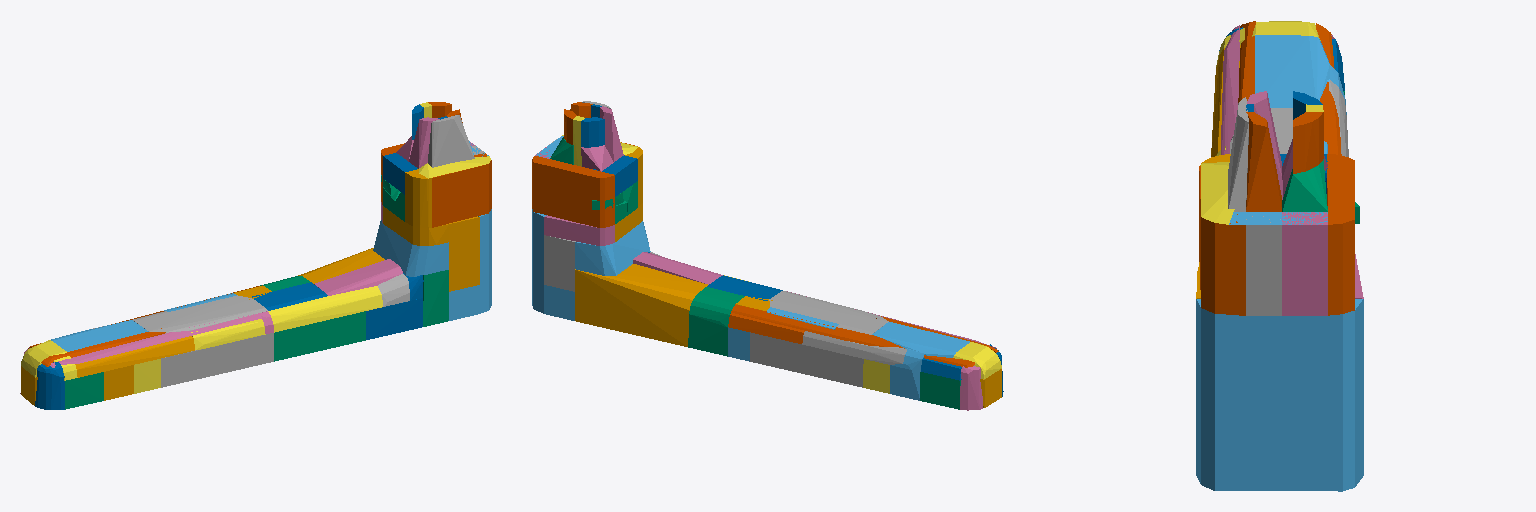
--- Render facts (derived) ---
The picture shows the robot from 3 angles, left to right: view 1: azimuth 30°, elevation 25°; view 2: azimuth 150°, elevation 25°; view 3: azimuth 270°, elevation 25°; orthographic projection.
Model root with 64 links and 63 joints (63 fixed), rooted at link_handle~handle2_convex_piece_0, posed every joint at zero.
Visible links, largest first — view 1: link_handle~handle2_convex_piece_63, link_handle~handle2_convex_piece_21, link_handle~handle2_convex_piece_58, link_handle~handle2_convex_piece_35, link_handle~handle2_convex_piece_47, link_handle~handle2_convex_piece_49, link_handle~handle2_convex_piece_8, link_handle~handle2_convex_piece_55, link_handle~handle2_convex_piece_48, link_handle~handle2_convex_piece_44, link_handle~handle2_convex_piece_46, link_handle~handle2_convex_piece_38 (+19 smaller); view 2: link_handle~handle2_convex_piece_56, link_handle~handle2_convex_piece_45, link_handle~handle2_convex_piece_63, link_handle~handle2_convex_piece_34, link_handle~handle2_convex_piece_49, link_handle~handle2_convex_piece_47, link_handle~handle2_convex_piece_61, link_handle~handle2_convex_piece_41, link_handle~handle2_convex_piece_7, link_handle~handle2_convex_piece_22, link_handle~handle2_convex_piece_57, link_handle~handle2_convex_piece_25 (+17 smaller); view 3: link_handle~handle2_convex_piece_25, link_handle~handle2_convex_piece_6, link_handle~handle2_convex_piece_41, link_handle~handle2_convex_piece_45, link_handle~handle2_convex_piece_21, link_handle~handle2_convex_piece_15, link_handle~handle2_convex_piece_53, link_handle~handle2_convex_piece_55, link_handle~handle2_convex_piece_26, link_handle~handle2_convex_piece_29, link_handle~handle2_convex_piece_38, link_handle~handle2_convex_piece_43 (+7 smaller).
Boxes of the visible links, x1,y1,x2,y2 form: link_handle~handle2_convex_piece_63: (161,333,273,387); link_handle~handle2_convex_piece_21: (432,153,491,227); link_handle~handle2_convex_piece_58: (274,311,365,361); link_handle~handle2_convex_piece_35: (268,286,382,332); link_handle~handle2_convex_piece_47: (134,295,267,333); link_handle~handle2_convex_piece_49: (373,220,448,276); link_handle~handle2_convex_piece_8: (449,216,479,291); link_handle~handle2_convex_piece_55: (428,115,474,167); link_handle~handle2_convex_piece_48: (75,336,194,377); link_handle~handle2_convex_piece_44: (366,298,422,339); link_handle~handle2_convex_piece_46: (314,259,402,295); link_handle~handle2_convex_piece_38: (50,313,261,367); link_handle~handle2_convex_piece_56: (575,264,707,346); link_handle~handle2_convex_piece_45: (532,156,614,227); link_handle~handle2_convex_piece_63: (750,332,863,387); link_handle~handle2_convex_piece_34: (688,287,744,356); link_handle~handle2_convex_piece_49: (575,221,650,275); link_handle~handle2_convex_piece_47: (769,291,888,332); link_handle~handle2_convex_piece_61: (731,304,974,367); link_handle~handle2_convex_piece_41: (872,322,969,357); link_handle~handle2_convex_piece_7: (544,235,575,291); link_handle~handle2_convex_piece_22: (544,215,614,245); link_handle~handle2_convex_piece_57: (890,348,924,400); link_handle~handle2_convex_piece_25: (532,209,546,313); link_handle~handle2_convex_piece_25: (1196,299,1363,491); link_handle~handle2_convex_piece_6: (1282,212,1327,315); link_handle~handle2_convex_piece_41: (1255,35,1329,107); link_handle~handle2_convex_piece_45: (1327,154,1354,315); link_handle~handle2_convex_piece_21: (1199,166,1245,315); link_handle~handle2_convex_piece_15: (1246,216,1281,315); link_handle~handle2_convex_piece_53: (1246,112,1281,211); link_handle~handle2_convex_piece_55: (1228,97,1248,211); link_handle~handle2_convex_piece_26: (1282,159,1327,211); link_handle~handle2_convex_piece_29: (1293,112,1323,173); link_handle~handle2_convex_piece_38: (1221,25,1239,154); link_handle~handle2_convex_piece_43: (1201,162,1234,224).
Bounding box of the posed robot: 0.1277 × 0.0227 × 0.052 m (x, y, z).
Meshes: 64 distinct files referenced, 64 mesh visuals loaded (64 OBJ).

URDF robot description (root):
<robot name="root">
  <link name="link_handle~handle2_convex_piece_0">
    <inertial>
      <origin xyz="0 0 0" rpy="0 0 0"/>
      <mass value="9.66E-04"/>
      <inertia ixx="1.10E-07" ixy="-2.01E-07" ixz="-5.53E-07" iyy="3.87E-06" iyz="-3.13E-08" izz="3.80E-06"/>
    </inertial>
    <visual>
      <origin xyz="0 0 0" rpy="0 0 0"/>
      <geometry>
        <mesh filename="handle~handle2_convex_piece_0.obj" scale="1.0000E+00 1.0000E+00 1.0000E+00"/>
      </geometry>
      <material name=""/>
    </visual>
    <collision>
      <origin xyz="0 0 0" rpy="0 0 0"/>
      <geometry>
        <mesh filename="handle~handle2_convex_piece_0.obj" scale="1.0000E+00 1.0000E+00 1.0000E+00"/>
      </geometry>
    </collision>
  </link>
  <link name="link_handle~handle2_convex_piece_1">
    <inertial>
      <origin xyz="0 0 0" rpy="0 0 0"/>
      <mass value="5.49E-04"/>
      <inertia ixx="7.18E-08" ixy="4.76E-08" ixz="-7.96E-08" iyy="1.89E-07" iyz="2.88E-08" izz="1.57E-07"/>
    </inertial>
    <visual>
      <origin xyz="0 0 0" rpy="0 0 0"/>
      <geometry>
        <mesh filename="handle~handle2_convex_piece_1.obj" scale="1.0000E+00 1.0000E+00 1.0000E+00"/>
      </geometry>
      <material name=""/>
    </visual>
    <collision>
      <origin xyz="0 0 0" rpy="0 0 0"/>
      <geometry>
        <mesh filename="handle~handle2_convex_piece_1.obj" scale="1.0000E+00 1.0000E+00 1.0000E+00"/>
      </geometry>
    </collision>
  </link>
  <joint name="link_handle~handle2_convex_piece_1_joint" type="fixed">
    <origin xyz="0 0 0" rpy="0 0 0"/>
    <parent link="link_handle~handle2_convex_piece_0"/>
    <child link="link_handle~handle2_convex_piece_1"/>
  </joint>
  <link name="link_handle~handle2_convex_piece_2">
    <inertial>
      <origin xyz="0 0 0" rpy="0 0 0"/>
      <mass value="1.30E-03"/>
      <inertia ixx="1.38E-07" ixy="1.82E-07" ixz="2.47E-07" iyy="1.01E-06" iyz="-4.94E-08" izz="9.71E-07"/>
    </inertial>
    <visual>
      <origin xyz="0 0 0" rpy="0 0 0"/>
      <geometry>
        <mesh filename="handle~handle2_convex_piece_2.obj" scale="1.0000E+00 1.0000E+00 1.0000E+00"/>
      </geometry>
      <material name=""/>
    </visual>
    <collision>
      <origin xyz="0 0 0" rpy="0 0 0"/>
      <geometry>
        <mesh filename="handle~handle2_convex_piece_2.obj" scale="1.0000E+00 1.0000E+00 1.0000E+00"/>
      </geometry>
    </collision>
  </link>
  <joint name="link_handle~handle2_convex_piece_2_joint" type="fixed">
    <origin xyz="0 0 0" rpy="0 0 0"/>
    <parent link="link_handle~handle2_convex_piece_1"/>
    <child link="link_handle~handle2_convex_piece_2"/>
  </joint>
  <link name="link_handle~handle2_convex_piece_3">
    <inertial>
      <origin xyz="0 0 0" rpy="0 0 0"/>
      <mass value="1.32E-03"/>
      <inertia ixx="1.67E-07" ixy="3.39E-09" ixz="-6.91E-07" iyy="4.07E-06" iyz="2.71E-10" izz="3.97E-06"/>
    </inertial>
    <visual>
      <origin xyz="0 0 0" rpy="0 0 0"/>
      <geometry>
        <mesh filename="handle~handle2_convex_piece_3.obj" scale="1.0000E+00 1.0000E+00 1.0000E+00"/>
      </geometry>
      <material name=""/>
    </visual>
    <collision>
      <origin xyz="0 0 0" rpy="0 0 0"/>
      <geometry>
        <mesh filename="handle~handle2_convex_piece_3.obj" scale="1.0000E+00 1.0000E+00 1.0000E+00"/>
      </geometry>
    </collision>
  </link>
  <joint name="link_handle~handle2_convex_piece_3_joint" type="fixed">
    <origin xyz="0 0 0" rpy="0 0 0"/>
    <parent link="link_handle~handle2_convex_piece_2"/>
    <child link="link_handle~handle2_convex_piece_3"/>
  </joint>
  <link name="link_handle~handle2_convex_piece_4">
    <inertial>
      <origin xyz="0 0 0" rpy="0 0 0"/>
      <mass value="1.26E-04"/>
      <inertia ixx="9.52E-09" ixy="2.07E-08" ixz="8.66E-09" iyy="5.88E-08" iyz="-3.23E-09" izz="6.50E-08"/>
    </inertial>
    <visual>
      <origin xyz="0 0 0" rpy="0 0 0"/>
      <geometry>
        <mesh filename="handle~handle2_convex_piece_4.obj" scale="1.0000E+00 1.0000E+00 1.0000E+00"/>
      </geometry>
      <material name=""/>
    </visual>
    <collision>
      <origin xyz="0 0 0" rpy="0 0 0"/>
      <geometry>
        <mesh filename="handle~handle2_convex_piece_4.obj" scale="1.0000E+00 1.0000E+00 1.0000E+00"/>
      </geometry>
    </collision>
  </link>
  <joint name="link_handle~handle2_convex_piece_4_joint" type="fixed">
    <origin xyz="0 0 0" rpy="0 0 0"/>
    <parent link="link_handle~handle2_convex_piece_3"/>
    <child link="link_handle~handle2_convex_piece_4"/>
  </joint>
  <link name="link_handle~handle2_convex_piece_5">
    <inertial>
      <origin xyz="0 0 0" rpy="0 0 0"/>
      <mass value="6.37E-05"/>
      <inertia ixx="4.13E-09" ixy="-8.38E-09" ixz="-1.26E-08" iyy="7.22E-08" iyz="-1.53E-09" izz="7.01E-08"/>
    </inertial>
    <visual>
      <origin xyz="0 0 0" rpy="0 0 0"/>
      <geometry>
        <mesh filename="handle~handle2_convex_piece_5.obj" scale="1.0000E+00 1.0000E+00 1.0000E+00"/>
      </geometry>
      <material name=""/>
    </visual>
    <collision>
      <origin xyz="0 0 0" rpy="0 0 0"/>
      <geometry>
        <mesh filename="handle~handle2_convex_piece_5.obj" scale="1.0000E+00 1.0000E+00 1.0000E+00"/>
      </geometry>
    </collision>
  </link>
  <joint name="link_handle~handle2_convex_piece_5_joint" type="fixed">
    <origin xyz="0 0 0" rpy="0 0 0"/>
    <parent link="link_handle~handle2_convex_piece_4"/>
    <child link="link_handle~handle2_convex_piece_5"/>
  </joint>
  <link name="link_handle~handle2_convex_piece_6">
    <inertial>
      <origin xyz="0 0 0" rpy="0 0 0"/>
      <mass value="4.26E-04"/>
      <inertia ixx="1.64E-07" ixy="-5.77E-08" ixz="-3.39E-07" iyy="9.14E-07" iyz="-2.60E-08" izz="7.62E-07"/>
    </inertial>
    <visual>
      <origin xyz="0 0 0" rpy="0 0 0"/>
      <geometry>
        <mesh filename="handle~handle2_convex_piece_6.obj" scale="1.0000E+00 1.0000E+00 1.0000E+00"/>
      </geometry>
      <material name=""/>
    </visual>
    <collision>
      <origin xyz="0 0 0" rpy="0 0 0"/>
      <geometry>
        <mesh filename="handle~handle2_convex_piece_6.obj" scale="1.0000E+00 1.0000E+00 1.0000E+00"/>
      </geometry>
    </collision>
  </link>
  <joint name="link_handle~handle2_convex_piece_6_joint" type="fixed">
    <origin xyz="0 0 0" rpy="0 0 0"/>
    <parent link="link_handle~handle2_convex_piece_5"/>
    <child link="link_handle~handle2_convex_piece_6"/>
  </joint>
  <link name="link_handle~handle2_convex_piece_7">
    <inertial>
      <origin xyz="0 0 0" rpy="0 0 0"/>
      <mass value="7.29E-04"/>
      <inertia ixx="6.04E-08" ixy="-2.02E-07" ixz="-1.78E-08" iyy="8.79E-07" iyz="-3.95E-09" izz="9.18E-07"/>
    </inertial>
    <visual>
      <origin xyz="0 0 0" rpy="0 0 0"/>
      <geometry>
        <mesh filename="handle~handle2_convex_piece_7.obj" scale="1.0000E+00 1.0000E+00 1.0000E+00"/>
      </geometry>
      <material name=""/>
    </visual>
    <collision>
      <origin xyz="0 0 0" rpy="0 0 0"/>
      <geometry>
        <mesh filename="handle~handle2_convex_piece_7.obj" scale="1.0000E+00 1.0000E+00 1.0000E+00"/>
      </geometry>
    </collision>
  </link>
  <joint name="link_handle~handle2_convex_piece_7_joint" type="fixed">
    <origin xyz="0 0 0" rpy="0 0 0"/>
    <parent link="link_handle~handle2_convex_piece_6"/>
    <child link="link_handle~handle2_convex_piece_7"/>
  </joint>
  <link name="link_handle~handle2_convex_piece_8">
    <inertial>
      <origin xyz="0 0 0" rpy="0 0 0"/>
      <mass value="1.00E-03"/>
      <inertia ixx="1.05E-07" ixy="2.76E-07" ixz="-1.09E-07" iyy="1.23E-06" iyz="2.52E-08" izz="1.26E-06"/>
    </inertial>
    <visual>
      <origin xyz="0 0 0" rpy="0 0 0"/>
      <geometry>
        <mesh filename="handle~handle2_convex_piece_8.obj" scale="1.0000E+00 1.0000E+00 1.0000E+00"/>
      </geometry>
      <material name=""/>
    </visual>
    <collision>
      <origin xyz="0 0 0" rpy="0 0 0"/>
      <geometry>
        <mesh filename="handle~handle2_convex_piece_8.obj" scale="1.0000E+00 1.0000E+00 1.0000E+00"/>
      </geometry>
    </collision>
  </link>
  <joint name="link_handle~handle2_convex_piece_8_joint" type="fixed">
    <origin xyz="0 0 0" rpy="0 0 0"/>
    <parent link="link_handle~handle2_convex_piece_7"/>
    <child link="link_handle~handle2_convex_piece_8"/>
  </joint>
  <link name="link_handle~handle2_convex_piece_9">
    <inertial>
      <origin xyz="0 0 0" rpy="0 0 0"/>
      <mass value="0.00E+00"/>
      <inertia ixx="0.00E+00" ixy="-0.00E+00" ixz="-1.16E-22" iyy="0.00E+00" iyz="-0.00E+00" izz="0.00E+00"/>
    </inertial>
    <visual>
      <origin xyz="0 0 0" rpy="0 0 0"/>
      <geometry>
        <mesh filename="handle~handle2_convex_piece_9.obj" scale="1.0000E+00 1.0000E+00 1.0000E+00"/>
      </geometry>
      <material name=""/>
    </visual>
    <collision>
      <origin xyz="0 0 0" rpy="0 0 0"/>
      <geometry>
        <mesh filename="handle~handle2_convex_piece_9.obj" scale="1.0000E+00 1.0000E+00 1.0000E+00"/>
      </geometry>
    </collision>
  </link>
  <joint name="link_handle~handle2_convex_piece_9_joint" type="fixed">
    <origin xyz="0 0 0" rpy="0 0 0"/>
    <parent link="link_handle~handle2_convex_piece_8"/>
    <child link="link_handle~handle2_convex_piece_9"/>
  </joint>
  <link name="link_handle~handle2_convex_piece_10">
    <inertial>
      <origin xyz="0 0 0" rpy="0 0 0"/>
      <mass value="7.95E-05"/>
      <inertia ixx="2.95E-08" ixy="-1.14E-08" ixz="-3.44E-08" iyy="7.14E-08" iyz="-8.72E-09" izz="4.84E-08"/>
    </inertial>
    <visual>
      <origin xyz="0 0 0" rpy="0 0 0"/>
      <geometry>
        <mesh filename="handle~handle2_convex_piece_10.obj" scale="1.0000E+00 1.0000E+00 1.0000E+00"/>
      </geometry>
      <material name=""/>
    </visual>
    <collision>
      <origin xyz="0 0 0" rpy="0 0 0"/>
      <geometry>
        <mesh filename="handle~handle2_convex_piece_10.obj" scale="1.0000E+00 1.0000E+00 1.0000E+00"/>
      </geometry>
    </collision>
  </link>
  <joint name="link_handle~handle2_convex_piece_10_joint" type="fixed">
    <origin xyz="0 0 0" rpy="0 0 0"/>
    <parent link="link_handle~handle2_convex_piece_9"/>
    <child link="link_handle~handle2_convex_piece_10"/>
  </joint>
  <link name="link_handle~handle2_convex_piece_11">
    <inertial>
      <origin xyz="0 0 0" rpy="0 0 0"/>
      <mass value="1.10E-04"/>
      <inertia ixx="8.50E-08" ixy="-1.58E-08" ixz="-9.57E-08" iyy="2.02E-07" iyz="-1.29E-08" izz="1.21E-07"/>
    </inertial>
    <visual>
      <origin xyz="0 0 0" rpy="0 0 0"/>
      <geometry>
        <mesh filename="handle~handle2_convex_piece_11.obj" scale="1.0000E+00 1.0000E+00 1.0000E+00"/>
      </geometry>
      <material name=""/>
    </visual>
    <collision>
      <origin xyz="0 0 0" rpy="0 0 0"/>
      <geometry>
        <mesh filename="handle~handle2_convex_piece_11.obj" scale="1.0000E+00 1.0000E+00 1.0000E+00"/>
      </geometry>
    </collision>
  </link>
  <joint name="link_handle~handle2_convex_piece_11_joint" type="fixed">
    <origin xyz="0 0 0" rpy="0 0 0"/>
    <parent link="link_handle~handle2_convex_piece_10"/>
    <child link="link_handle~handle2_convex_piece_11"/>
  </joint>
  <link name="link_handle~handle2_convex_piece_12">
    <inertial>
      <origin xyz="0 0 0" rpy="0 0 0"/>
      <mass value="5.61E-05"/>
      <inertia ixx="4.03E-09" ixy="2.89E-08" ixz="-1.80E-08" iyy="2.95E-07" iyz="1.80E-09" izz="2.97E-07"/>
    </inertial>
    <visual>
      <origin xyz="0 0 0" rpy="0 0 0"/>
      <geometry>
        <mesh filename="handle~handle2_convex_piece_12.obj" scale="1.0000E+00 1.0000E+00 1.0000E+00"/>
      </geometry>
      <material name=""/>
    </visual>
    <collision>
      <origin xyz="0 0 0" rpy="0 0 0"/>
      <geometry>
        <mesh filename="handle~handle2_convex_piece_12.obj" scale="1.0000E+00 1.0000E+00 1.0000E+00"/>
      </geometry>
    </collision>
  </link>
  <joint name="link_handle~handle2_convex_piece_12_joint" type="fixed">
    <origin xyz="0 0 0" rpy="0 0 0"/>
    <parent link="link_handle~handle2_convex_piece_11"/>
    <child link="link_handle~handle2_convex_piece_12"/>
  </joint>
  <link name="link_handle~handle2_convex_piece_13">
    <inertial>
      <origin xyz="0 0 0" rpy="0 0 0"/>
      <mass value="1.04E-04"/>
      <inertia ixx="9.44E-09" ixy="1.99E-08" ixz="-1.05E-08" iyy="6.02E-08" iyz="3.88E-09" izz="6.54E-08"/>
    </inertial>
    <visual>
      <origin xyz="0 0 0" rpy="0 0 0"/>
      <geometry>
        <mesh filename="handle~handle2_convex_piece_13.obj" scale="1.0000E+00 1.0000E+00 1.0000E+00"/>
      </geometry>
      <material name=""/>
    </visual>
    <collision>
      <origin xyz="0 0 0" rpy="0 0 0"/>
      <geometry>
        <mesh filename="handle~handle2_convex_piece_13.obj" scale="1.0000E+00 1.0000E+00 1.0000E+00"/>
      </geometry>
    </collision>
  </link>
  <joint name="link_handle~handle2_convex_piece_13_joint" type="fixed">
    <origin xyz="0 0 0" rpy="0 0 0"/>
    <parent link="link_handle~handle2_convex_piece_12"/>
    <child link="link_handle~handle2_convex_piece_13"/>
  </joint>
  <link name="link_handle~handle2_convex_piece_14">
    <inertial>
      <origin xyz="0 0 0" rpy="0 0 0"/>
      <mass value="1.01E-04"/>
      <inertia ixx="1.33E-08" ixy="5.02E-08" ixz="-7.29E-08" iyy="6.50E-07" iyz="5.75E-09" izz="6.45E-07"/>
    </inertial>
    <visual>
      <origin xyz="0 0 0" rpy="0 0 0"/>
      <geometry>
        <mesh filename="handle~handle2_convex_piece_14.obj" scale="1.0000E+00 1.0000E+00 1.0000E+00"/>
      </geometry>
      <material name=""/>
    </visual>
    <collision>
      <origin xyz="0 0 0" rpy="0 0 0"/>
      <geometry>
        <mesh filename="handle~handle2_convex_piece_14.obj" scale="1.0000E+00 1.0000E+00 1.0000E+00"/>
      </geometry>
    </collision>
  </link>
  <joint name="link_handle~handle2_convex_piece_14_joint" type="fixed">
    <origin xyz="0 0 0" rpy="0 0 0"/>
    <parent link="link_handle~handle2_convex_piece_13"/>
    <child link="link_handle~handle2_convex_piece_14"/>
  </joint>
  <link name="link_handle~handle2_convex_piece_15">
    <inertial>
      <origin xyz="0 0 0" rpy="0 0 0"/>
      <mass value="6.59E-04"/>
      <inertia ixx="2.51E-07" ixy="5.81E-08" ixz="-4.97E-07" iyy="1.30E-06" iyz="2.78E-08" izz="1.06E-06"/>
    </inertial>
    <visual>
      <origin xyz="0 0 0" rpy="0 0 0"/>
      <geometry>
        <mesh filename="handle~handle2_convex_piece_15.obj" scale="1.0000E+00 1.0000E+00 1.0000E+00"/>
      </geometry>
      <material name=""/>
    </visual>
    <collision>
      <origin xyz="0 0 0" rpy="0 0 0"/>
      <geometry>
        <mesh filename="handle~handle2_convex_piece_15.obj" scale="1.0000E+00 1.0000E+00 1.0000E+00"/>
      </geometry>
    </collision>
  </link>
  <joint name="link_handle~handle2_convex_piece_15_joint" type="fixed">
    <origin xyz="0 0 0" rpy="0 0 0"/>
    <parent link="link_handle~handle2_convex_piece_14"/>
    <child link="link_handle~handle2_convex_piece_15"/>
  </joint>
  <link name="link_handle~handle2_convex_piece_16">
    <inertial>
      <origin xyz="0 0 0" rpy="0 0 0"/>
      <mass value="3.86E-04"/>
      <inertia ixx="4.54E-08" ixy="2.08E-08" ixz="-3.15E-07" iyy="2.54E-06" iyz="2.72E-09" izz="2.50E-06"/>
    </inertial>
    <visual>
      <origin xyz="0 0 0" rpy="0 0 0"/>
      <geometry>
        <mesh filename="handle~handle2_convex_piece_16.obj" scale="1.0000E+00 1.0000E+00 1.0000E+00"/>
      </geometry>
      <material name=""/>
    </visual>
    <collision>
      <origin xyz="0 0 0" rpy="0 0 0"/>
      <geometry>
        <mesh filename="handle~handle2_convex_piece_16.obj" scale="1.0000E+00 1.0000E+00 1.0000E+00"/>
      </geometry>
    </collision>
  </link>
  <joint name="link_handle~handle2_convex_piece_16_joint" type="fixed">
    <origin xyz="0 0 0" rpy="0 0 0"/>
    <parent link="link_handle~handle2_convex_piece_15"/>
    <child link="link_handle~handle2_convex_piece_16"/>
  </joint>
  <link name="link_handle~handle2_convex_piece_17">
    <inertial>
      <origin xyz="0 0 0" rpy="0 0 0"/>
      <mass value="1.62E-03"/>
      <inertia ixx="2.50E-07" ixy="-5.04E-10" ixz="5.82E-07" iyy="2.15E-06" iyz="1.42E-10" izz="2.04E-06"/>
    </inertial>
    <visual>
      <origin xyz="0 0 0" rpy="0 0 0"/>
      <geometry>
        <mesh filename="handle~handle2_convex_piece_17.obj" scale="1.0000E+00 1.0000E+00 1.0000E+00"/>
      </geometry>
      <material name=""/>
    </visual>
    <collision>
      <origin xyz="0 0 0" rpy="0 0 0"/>
      <geometry>
        <mesh filename="handle~handle2_convex_piece_17.obj" scale="1.0000E+00 1.0000E+00 1.0000E+00"/>
      </geometry>
    </collision>
  </link>
  <joint name="link_handle~handle2_convex_piece_17_joint" type="fixed">
    <origin xyz="0 0 0" rpy="0 0 0"/>
    <parent link="link_handle~handle2_convex_piece_16"/>
    <child link="link_handle~handle2_convex_piece_17"/>
  </joint>
  <link name="link_handle~handle2_convex_piece_18">
    <inertial>
      <origin xyz="0 0 0" rpy="0 0 0"/>
      <mass value="1.58E-03"/>
      <inertia ixx="2.16E-07" ixy="1.52E-09" ixz="-1.18E-06" iyy="8.41E-06" iyz="1.38E-10" izz="8.28E-06"/>
    </inertial>
    <visual>
      <origin xyz="0 0 0" rpy="0 0 0"/>
      <geometry>
        <mesh filename="handle~handle2_convex_piece_18.obj" scale="1.0000E+00 1.0000E+00 1.0000E+00"/>
      </geometry>
      <material name=""/>
    </visual>
    <collision>
      <origin xyz="0 0 0" rpy="0 0 0"/>
      <geometry>
        <mesh filename="handle~handle2_convex_piece_18.obj" scale="1.0000E+00 1.0000E+00 1.0000E+00"/>
      </geometry>
    </collision>
  </link>
  <joint name="link_handle~handle2_convex_piece_18_joint" type="fixed">
    <origin xyz="0 0 0" rpy="0 0 0"/>
    <parent link="link_handle~handle2_convex_piece_17"/>
    <child link="link_handle~handle2_convex_piece_18"/>
  </joint>
  <link name="link_handle~handle2_convex_piece_19">
    <inertial>
      <origin xyz="0 0 0" rpy="0 0 0"/>
      <mass value="3.68E-04"/>
      <inertia ixx="1.62E-08" ixy="3.10E-11" ixz="-4.61E-08" iyy="5.04E-07" iyz="2.91E-12" izz="4.93E-07"/>
    </inertial>
    <visual>
      <origin xyz="0 0 0" rpy="0 0 0"/>
      <geometry>
        <mesh filename="handle~handle2_convex_piece_19.obj" scale="1.0000E+00 1.0000E+00 1.0000E+00"/>
      </geometry>
      <material name=""/>
    </visual>
    <collision>
      <origin xyz="0 0 0" rpy="0 0 0"/>
      <geometry>
        <mesh filename="handle~handle2_convex_piece_19.obj" scale="1.0000E+00 1.0000E+00 1.0000E+00"/>
      </geometry>
    </collision>
  </link>
  <joint name="link_handle~handle2_convex_piece_19_joint" type="fixed">
    <origin xyz="0 0 0" rpy="0 0 0"/>
    <parent link="link_handle~handle2_convex_piece_18"/>
    <child link="link_handle~handle2_convex_piece_19"/>
  </joint>
  <link name="link_handle~handle2_convex_piece_20">
    <inertial>
      <origin xyz="0 0 0" rpy="0 0 0"/>
      <mass value="1.97E-04"/>
      <inertia ixx="2.43E-08" ixy="-8.39E-08" ixz="-1.43E-07" iyy="1.27E-06" iyz="-9.60E-09" izz="1.26E-06"/>
    </inertial>
    <visual>
      <origin xyz="0 0 0" rpy="0 0 0"/>
      <geometry>
        <mesh filename="handle~handle2_convex_piece_20.obj" scale="1.0000E+00 1.0000E+00 1.0000E+00"/>
      </geometry>
      <material name=""/>
    </visual>
    <collision>
      <origin xyz="0 0 0" rpy="0 0 0"/>
      <geometry>
        <mesh filename="handle~handle2_convex_piece_20.obj" scale="1.0000E+00 1.0000E+00 1.0000E+00"/>
      </geometry>
    </collision>
  </link>
  <joint name="link_handle~handle2_convex_piece_20_joint" type="fixed">
    <origin xyz="0 0 0" rpy="0 0 0"/>
    <parent link="link_handle~handle2_convex_piece_19"/>
    <child link="link_handle~handle2_convex_piece_20"/>
  </joint>
  <link name="link_handle~handle2_convex_piece_21">
    <inertial>
      <origin xyz="0 0 0" rpy="0 0 0"/>
      <mass value="1.69E-03"/>
      <inertia ixx="7.28E-07" ixy="4.37E-07" ixz="-1.09E-06" iyy="2.65E-06" iyz="2.41E-07" izz="2.13E-06"/>
    </inertial>
    <visual>
      <origin xyz="0 0 0" rpy="0 0 0"/>
      <geometry>
        <mesh filename="handle~handle2_convex_piece_21.obj" scale="1.0000E+00 1.0000E+00 1.0000E+00"/>
      </geometry>
      <material name=""/>
    </visual>
    <collision>
      <origin xyz="0 0 0" rpy="0 0 0"/>
      <geometry>
        <mesh filename="handle~handle2_convex_piece_21.obj" scale="1.0000E+00 1.0000E+00 1.0000E+00"/>
      </geometry>
    </collision>
  </link>
  <joint name="link_handle~handle2_convex_piece_21_joint" type="fixed">
    <origin xyz="0 0 0" rpy="0 0 0"/>
    <parent link="link_handle~handle2_convex_piece_20"/>
    <child link="link_handle~handle2_convex_piece_21"/>
  </joint>
  <link name="link_handle~handle2_convex_piece_22">
    <inertial>
      <origin xyz="0 0 0" rpy="0 0 0"/>
      <mass value="4.37E-04"/>
      <inertia ixx="7.14E-08" ixy="-1.10E-07" ixz="-1.32E-07" iyy="4.75E-07" iyz="-3.41E-08" izz="4.63E-07"/>
    </inertial>
    <visual>
      <origin xyz="0 0 0" rpy="0 0 0"/>
      <geometry>
        <mesh filename="handle~handle2_convex_piece_22.obj" scale="1.0000E+00 1.0000E+00 1.0000E+00"/>
      </geometry>
      <material name=""/>
    </visual>
    <collision>
      <origin xyz="0 0 0" rpy="0 0 0"/>
      <geometry>
        <mesh filename="handle~handle2_convex_piece_22.obj" scale="1.0000E+00 1.0000E+00 1.0000E+00"/>
      </geometry>
    </collision>
  </link>
  <joint name="link_handle~handle2_convex_piece_22_joint" type="fixed">
    <origin xyz="0 0 0" rpy="0 0 0"/>
    <parent link="link_handle~handle2_convex_piece_21"/>
    <child link="link_handle~handle2_convex_piece_22"/>
  </joint>
  <link name="link_handle~handle2_convex_piece_23">
    <inertial>
      <origin xyz="0 0 0" rpy="0 0 0"/>
      <mass value="5.21E-05"/>
      <inertia ixx="4.34E-09" ixy="2.30E-08" ixz="-1.30E-08" iyy="1.66E-07" iyz="1.85E-09" izz="1.68E-07"/>
    </inertial>
    <visual>
      <origin xyz="0 0 0" rpy="0 0 0"/>
      <geometry>
        <mesh filename="handle~handle2_convex_piece_23.obj" scale="1.0000E+00 1.0000E+00 1.0000E+00"/>
      </geometry>
      <material name=""/>
    </visual>
    <collision>
      <origin xyz="0 0 0" rpy="0 0 0"/>
      <geometry>
        <mesh filename="handle~handle2_convex_piece_23.obj" scale="1.0000E+00 1.0000E+00 1.0000E+00"/>
      </geometry>
    </collision>
  </link>
  <joint name="link_handle~handle2_convex_piece_23_joint" type="fixed">
    <origin xyz="0 0 0" rpy="0 0 0"/>
    <parent link="link_handle~handle2_convex_piece_22"/>
    <child link="link_handle~handle2_convex_piece_23"/>
  </joint>
  <link name="link_handle~handle2_convex_piece_24">
    <inertial>
      <origin xyz="0 0 0" rpy="0 0 0"/>
      <mass value="2.36E-04"/>
      <inertia ixx="1.08E-07" ixy="4.22E-08" ixz="-1.10E-07" iyy="2.28E-07" iyz="3.45E-08" izz="1.47E-07"/>
    </inertial>
    <visual>
      <origin xyz="0 0 0" rpy="0 0 0"/>
      <geometry>
        <mesh filename="handle~handle2_convex_piece_24.obj" scale="1.0000E+00 1.0000E+00 1.0000E+00"/>
      </geometry>
      <material name=""/>
    </visual>
    <collision>
      <origin xyz="0 0 0" rpy="0 0 0"/>
      <geometry>
        <mesh filename="handle~handle2_convex_piece_24.obj" scale="1.0000E+00 1.0000E+00 1.0000E+00"/>
      </geometry>
    </collision>
  </link>
  <joint name="link_handle~handle2_convex_piece_24_joint" type="fixed">
    <origin xyz="0 0 0" rpy="0 0 0"/>
    <parent link="link_handle~handle2_convex_piece_23"/>
    <child link="link_handle~handle2_convex_piece_24"/>
  </joint>
  <link name="link_handle~handle2_convex_piece_25">
    <inertial>
      <origin xyz="0 0 0" rpy="0 0 0"/>
      <mass value="2.85E-03"/>
      <inertia ixx="2.75E-07" ixy="3.39E-11" ixz="1.26E-07" iyy="5.06E-06" iyz="-1.22E-11" izz="5.00E-06"/>
    </inertial>
    <visual>
      <origin xyz="0 0 0" rpy="0 0 0"/>
      <geometry>
        <mesh filename="handle~handle2_convex_piece_25.obj" scale="1.0000E+00 1.0000E+00 1.0000E+00"/>
      </geometry>
      <material name=""/>
    </visual>
    <collision>
      <origin xyz="0 0 0" rpy="0 0 0"/>
      <geometry>
        <mesh filename="handle~handle2_convex_piece_25.obj" scale="1.0000E+00 1.0000E+00 1.0000E+00"/>
      </geometry>
    </collision>
  </link>
  <joint name="link_handle~handle2_convex_piece_25_joint" type="fixed">
    <origin xyz="0 0 0" rpy="0 0 0"/>
    <parent link="link_handle~handle2_convex_piece_24"/>
    <child link="link_handle~handle2_convex_piece_25"/>
  </joint>
  <link name="link_handle~handle2_convex_piece_26">
    <inertial>
      <origin xyz="0 0 0" rpy="0 0 0"/>
      <mass value="5.97E-04"/>
      <inertia ixx="2.83E-07" ixy="-8.32E-08" ixz="-4.70E-07" iyy="1.13E-06" iyz="-4.53E-08" izz="8.68E-07"/>
    </inertial>
    <visual>
      <origin xyz="0 0 0" rpy="0 0 0"/>
      <geometry>
        <mesh filename="handle~handle2_convex_piece_26.obj" scale="1.0000E+00 1.0000E+00 1.0000E+00"/>
      </geometry>
      <material name=""/>
    </visual>
    <collision>
      <origin xyz="0 0 0" rpy="0 0 0"/>
      <geometry>
        <mesh filename="handle~handle2_convex_piece_26.obj" scale="1.0000E+00 1.0000E+00 1.0000E+00"/>
      </geometry>
    </collision>
  </link>
  <joint name="link_handle~handle2_convex_piece_26_joint" type="fixed">
    <origin xyz="0 0 0" rpy="0 0 0"/>
    <parent link="link_handle~handle2_convex_piece_25"/>
    <child link="link_handle~handle2_convex_piece_26"/>
  </joint>
  <link name="link_handle~handle2_convex_piece_27">
    <inertial>
      <origin xyz="0 0 0" rpy="0 0 0"/>
      <mass value="9.42E-05"/>
      <inertia ixx="8.77E-09" ixy="-2.44E-08" ixz="-1.29E-08" iyy="9.31E-08" iyz="-3.61E-09" izz="9.79E-08"/>
    </inertial>
    <visual>
      <origin xyz="0 0 0" rpy="0 0 0"/>
      <geometry>
        <mesh filename="handle~handle2_convex_piece_27.obj" scale="1.0000E+00 1.0000E+00 1.0000E+00"/>
      </geometry>
      <material name=""/>
    </visual>
    <collision>
      <origin xyz="0 0 0" rpy="0 0 0"/>
      <geometry>
        <mesh filename="handle~handle2_convex_piece_27.obj" scale="1.0000E+00 1.0000E+00 1.0000E+00"/>
      </geometry>
    </collision>
  </link>
  <joint name="link_handle~handle2_convex_piece_27_joint" type="fixed">
    <origin xyz="0 0 0" rpy="0 0 0"/>
    <parent link="link_handle~handle2_convex_piece_26"/>
    <child link="link_handle~handle2_convex_piece_27"/>
  </joint>
  <link name="link_handle~handle2_convex_piece_28">
    <inertial>
      <origin xyz="0 0 0" rpy="0 0 0"/>
      <mass value="7.24E-05"/>
      <inertia ixx="8.57E-08" ixy="-7.64E-09" ixz="-7.39E-08" iyy="1.49E-07" iyz="-8.67E-09" izz="6.56E-08"/>
    </inertial>
    <visual>
      <origin xyz="0 0 0" rpy="0 0 0"/>
      <geometry>
        <mesh filename="handle~handle2_convex_piece_28.obj" scale="1.0000E+00 1.0000E+00 1.0000E+00"/>
      </geometry>
      <material name=""/>
    </visual>
    <collision>
      <origin xyz="0 0 0" rpy="0 0 0"/>
      <geometry>
        <mesh filename="handle~handle2_convex_piece_28.obj" scale="1.0000E+00 1.0000E+00 1.0000E+00"/>
      </geometry>
    </collision>
  </link>
  <joint name="link_handle~handle2_convex_piece_28_joint" type="fixed">
    <origin xyz="0 0 0" rpy="0 0 0"/>
    <parent link="link_handle~handle2_convex_piece_27"/>
    <child link="link_handle~handle2_convex_piece_28"/>
  </joint>
  <link name="link_handle~handle2_convex_piece_29">
    <inertial>
      <origin xyz="0 0 0" rpy="0 0 0"/>
      <mass value="8.22E-05"/>
      <inertia ixx="9.76E-08" ixy="-1.06E-08" ixz="-1.02E-07" iyy="2.04E-07" iyz="-1.01E-08" izz="1.09E-07"/>
    </inertial>
    <visual>
      <origin xyz="0 0 0" rpy="0 0 0"/>
      <geometry>
        <mesh filename="handle~handle2_convex_piece_29.obj" scale="1.0000E+00 1.0000E+00 1.0000E+00"/>
      </geometry>
      <material name=""/>
    </visual>
    <collision>
      <origin xyz="0 0 0" rpy="0 0 0"/>
      <geometry>
        <mesh filename="handle~handle2_convex_piece_29.obj" scale="1.0000E+00 1.0000E+00 1.0000E+00"/>
      </geometry>
    </collision>
  </link>
  <joint name="link_handle~handle2_convex_piece_29_joint" type="fixed">
    <origin xyz="0 0 0" rpy="0 0 0"/>
    <parent link="link_handle~handle2_convex_piece_28"/>
    <child link="link_handle~handle2_convex_piece_29"/>
  </joint>
  <link name="link_handle~handle2_convex_piece_30">
    <inertial>
      <origin xyz="0 0 0" rpy="0 0 0"/>
      <mass value="2.30E-05"/>
      <inertia ixx="1.69E-09" ixy="-3.50E-09" ixz="-1.66E-09" iyy="9.55E-09" iyz="-6.54E-10" izz="1.06E-08"/>
    </inertial>
    <visual>
      <origin xyz="0 0 0" rpy="0 0 0"/>
      <geometry>
        <mesh filename="handle~handle2_convex_piece_30.obj" scale="1.0000E+00 1.0000E+00 1.0000E+00"/>
      </geometry>
      <material name=""/>
    </visual>
    <collision>
      <origin xyz="0 0 0" rpy="0 0 0"/>
      <geometry>
        <mesh filename="handle~handle2_convex_piece_30.obj" scale="1.0000E+00 1.0000E+00 1.0000E+00"/>
      </geometry>
    </collision>
  </link>
  <joint name="link_handle~handle2_convex_piece_30_joint" type="fixed">
    <origin xyz="0 0 0" rpy="0 0 0"/>
    <parent link="link_handle~handle2_convex_piece_29"/>
    <child link="link_handle~handle2_convex_piece_30"/>
  </joint>
  <link name="link_handle~handle2_convex_piece_31">
    <inertial>
      <origin xyz="0 0 0" rpy="0 0 0"/>
      <mass value="6.12E-05"/>
      <inertia ixx="5.96E-09" ixy="8.94E-09" ixz="3.44E-09" iyy="1.70E-08" iyz="-2.02E-09" izz="2.12E-08"/>
    </inertial>
    <visual>
      <origin xyz="0 0 0" rpy="0 0 0"/>
      <geometry>
        <mesh filename="handle~handle2_convex_piece_31.obj" scale="1.0000E+00 1.0000E+00 1.0000E+00"/>
      </geometry>
      <material name=""/>
    </visual>
    <collision>
      <origin xyz="0 0 0" rpy="0 0 0"/>
      <geometry>
        <mesh filename="handle~handle2_convex_piece_31.obj" scale="1.0000E+00 1.0000E+00 1.0000E+00"/>
      </geometry>
    </collision>
  </link>
  <joint name="link_handle~handle2_convex_piece_31_joint" type="fixed">
    <origin xyz="0 0 0" rpy="0 0 0"/>
    <parent link="link_handle~handle2_convex_piece_30"/>
    <child link="link_handle~handle2_convex_piece_31"/>
  </joint>
  <link name="link_handle~handle2_convex_piece_32">
    <inertial>
      <origin xyz="0 0 0" rpy="0 0 0"/>
      <mass value="7.07E-04"/>
      <inertia ixx="8.77E-08" ixy="4.75E-08" ixz="-1.80E-07" iyy="5.57E-07" iyz="1.71E-08" izz="5.09E-07"/>
    </inertial>
    <visual>
      <origin xyz="0 0 0" rpy="0 0 0"/>
      <geometry>
        <mesh filename="handle~handle2_convex_piece_32.obj" scale="1.0000E+00 1.0000E+00 1.0000E+00"/>
      </geometry>
      <material name=""/>
    </visual>
    <collision>
      <origin xyz="0 0 0" rpy="0 0 0"/>
      <geometry>
        <mesh filename="handle~handle2_convex_piece_32.obj" scale="1.0000E+00 1.0000E+00 1.0000E+00"/>
      </geometry>
    </collision>
  </link>
  <joint name="link_handle~handle2_convex_piece_32_joint" type="fixed">
    <origin xyz="0 0 0" rpy="0 0 0"/>
    <parent link="link_handle~handle2_convex_piece_31"/>
    <child link="link_handle~handle2_convex_piece_32"/>
  </joint>
  <link name="link_handle~handle2_convex_piece_33">
    <inertial>
      <origin xyz="0 0 0" rpy="0 0 0"/>
      <mass value="1.36E-04"/>
      <inertia ixx="6.46E-09" ixy="2.48E-08" ixz="-1.21E-08" iyy="1.31E-07" iyz="2.56E-09" izz="1.34E-07"/>
    </inertial>
    <visual>
      <origin xyz="0 0 0" rpy="0 0 0"/>
      <geometry>
        <mesh filename="handle~handle2_convex_piece_33.obj" scale="1.0000E+00 1.0000E+00 1.0000E+00"/>
      </geometry>
      <material name=""/>
    </visual>
    <collision>
      <origin xyz="0 0 0" rpy="0 0 0"/>
      <geometry>
        <mesh filename="handle~handle2_convex_piece_33.obj" scale="1.0000E+00 1.0000E+00 1.0000E+00"/>
      </geometry>
    </collision>
  </link>
  <joint name="link_handle~handle2_convex_piece_33_joint" type="fixed">
    <origin xyz="0 0 0" rpy="0 0 0"/>
    <parent link="link_handle~handle2_convex_piece_32"/>
    <child link="link_handle~handle2_convex_piece_33"/>
  </joint>
  <link name="link_handle~handle2_convex_piece_34">
    <inertial>
      <origin xyz="0 0 0" rpy="0 0 0"/>
      <mass value="1.24E-03"/>
      <inertia ixx="1.46E-07" ixy="4.99E-08" ixz="-7.10E-08" iyy="1.72E-07" iyz="5.88E-08" izz="1.22E-07"/>
    </inertial>
    <visual>
      <origin xyz="0 0 0" rpy="0 0 0"/>
      <geometry>
        <mesh filename="handle~handle2_convex_piece_34.obj" scale="1.0000E+00 1.0000E+00 1.0000E+00"/>
      </geometry>
      <material name=""/>
    </visual>
    <collision>
      <origin xyz="0 0 0" rpy="0 0 0"/>
      <geometry>
        <mesh filename="handle~handle2_convex_piece_34.obj" scale="1.0000E+00 1.0000E+00 1.0000E+00"/>
      </geometry>
    </collision>
  </link>
  <joint name="link_handle~handle2_convex_piece_34_joint" type="fixed">
    <origin xyz="0 0 0" rpy="0 0 0"/>
    <parent link="link_handle~handle2_convex_piece_33"/>
    <child link="link_handle~handle2_convex_piece_34"/>
  </joint>
  <link name="link_handle~handle2_convex_piece_35">
    <inertial>
      <origin xyz="0 0 0" rpy="0 0 0"/>
      <mass value="1.69E-04"/>
      <inertia ixx="1.62E-08" ixy="-4.47E-09" ixz="-2.24E-09" iyy="1.75E-08" iyz="-6.09E-09" izz="2.78E-08"/>
    </inertial>
    <visual>
      <origin xyz="0 0 0" rpy="0 0 0"/>
      <geometry>
        <mesh filename="handle~handle2_convex_piece_35.obj" scale="1.0000E+00 1.0000E+00 1.0000E+00"/>
      </geometry>
      <material name=""/>
    </visual>
    <collision>
      <origin xyz="0 0 0" rpy="0 0 0"/>
      <geometry>
        <mesh filename="handle~handle2_convex_piece_35.obj" scale="1.0000E+00 1.0000E+00 1.0000E+00"/>
      </geometry>
    </collision>
  </link>
  <joint name="link_handle~handle2_convex_piece_35_joint" type="fixed">
    <origin xyz="0 0 0" rpy="0 0 0"/>
    <parent link="link_handle~handle2_convex_piece_34"/>
    <child link="link_handle~handle2_convex_piece_35"/>
  </joint>
  <link name="link_handle~handle2_convex_piece_36">
    <inertial>
      <origin xyz="0 0 0" rpy="0 0 0"/>
      <mass value="4.37E-04"/>
      <inertia ixx="1.49E-08" ixy="-1.84E-08" ixz="-1.32E-08" iyy="6.02E-08" iyz="-6.14E-09" izz="6.64E-08"/>
    </inertial>
    <visual>
      <origin xyz="0 0 0" rpy="0 0 0"/>
      <geometry>
        <mesh filename="handle~handle2_convex_piece_36.obj" scale="1.0000E+00 1.0000E+00 1.0000E+00"/>
      </geometry>
      <material name=""/>
    </visual>
    <collision>
      <origin xyz="0 0 0" rpy="0 0 0"/>
      <geometry>
        <mesh filename="handle~handle2_convex_piece_36.obj" scale="1.0000E+00 1.0000E+00 1.0000E+00"/>
      </geometry>
    </collision>
  </link>
  <joint name="link_handle~handle2_convex_piece_36_joint" type="fixed">
    <origin xyz="0 0 0" rpy="0 0 0"/>
    <parent link="link_handle~handle2_convex_piece_35"/>
    <child link="link_handle~handle2_convex_piece_36"/>
  </joint>
  <link name="link_handle~handle2_convex_piece_37">
    <inertial>
      <origin xyz="0 0 0" rpy="0 0 0"/>
      <mass value="8.27E-05"/>
      <inertia ixx="1.98E-09" ixy="-2.26E-08" ixz="-1.14E-08" iyy="3.39E-07" iyz="-7.80E-10" izz="3.41E-07"/>
    </inertial>
    <visual>
      <origin xyz="0 0 0" rpy="0 0 0"/>
      <geometry>
        <mesh filename="handle~handle2_convex_piece_37.obj" scale="1.0000E+00 1.0000E+00 1.0000E+00"/>
      </geometry>
      <material name=""/>
    </visual>
    <collision>
      <origin xyz="0 0 0" rpy="0 0 0"/>
      <geometry>
        <mesh filename="handle~handle2_convex_piece_37.obj" scale="1.0000E+00 1.0000E+00 1.0000E+00"/>
      </geometry>
    </collision>
  </link>
  <joint name="link_handle~handle2_convex_piece_37_joint" type="fixed">
    <origin xyz="0 0 0" rpy="0 0 0"/>
    <parent link="link_handle~handle2_convex_piece_36"/>
    <child link="link_handle~handle2_convex_piece_37"/>
  </joint>
  <link name="link_handle~handle2_convex_piece_38">
    <inertial>
      <origin xyz="0 0 0" rpy="0 0 0"/>
      <mass value="7.99E-05"/>
      <inertia ixx="4.12E-09" ixy="-2.59E-08" ixz="-1.02E-08" iyy="2.11E-07" iyz="-1.37E-09" izz="2.14E-07"/>
    </inertial>
    <visual>
      <origin xyz="0 0 0" rpy="0 0 0"/>
      <geometry>
        <mesh filename="handle~handle2_convex_piece_38.obj" scale="1.0000E+00 1.0000E+00 1.0000E+00"/>
      </geometry>
      <material name=""/>
    </visual>
    <collision>
      <origin xyz="0 0 0" rpy="0 0 0"/>
      <geometry>
        <mesh filename="handle~handle2_convex_piece_38.obj" scale="1.0000E+00 1.0000E+00 1.0000E+00"/>
      </geometry>
    </collision>
  </link>
  <joint name="link_handle~handle2_convex_piece_38_joint" type="fixed">
    <origin xyz="0 0 0" rpy="0 0 0"/>
    <parent link="link_handle~handle2_convex_piece_37"/>
    <child link="link_handle~handle2_convex_piece_38"/>
  </joint>
  <link name="link_handle~handle2_convex_piece_39">
    <inertial>
      <origin xyz="0 0 0" rpy="0 0 0"/>
      <mass value="1.60E-04"/>
      <inertia ixx="1.03E-08" ixy="4.69E-08" ixz="-2.39E-08" iyy="2.89E-07" iyz="4.18E-09" izz="2.95E-07"/>
    </inertial>
    <visual>
      <origin xyz="0 0 0" rpy="0 0 0"/>
      <geometry>
        <mesh filename="handle~handle2_convex_piece_39.obj" scale="1.0000E+00 1.0000E+00 1.0000E+00"/>
      </geometry>
      <material name=""/>
    </visual>
    <collision>
      <origin xyz="0 0 0" rpy="0 0 0"/>
      <geometry>
        <mesh filename="handle~handle2_convex_piece_39.obj" scale="1.0000E+00 1.0000E+00 1.0000E+00"/>
      </geometry>
    </collision>
  </link>
  <joint name="link_handle~handle2_convex_piece_39_joint" type="fixed">
    <origin xyz="0 0 0" rpy="0 0 0"/>
    <parent link="link_handle~handle2_convex_piece_38"/>
    <child link="link_handle~handle2_convex_piece_39"/>
  </joint>
  <link name="link_handle~handle2_convex_piece_40">
    <inertial>
      <origin xyz="0 0 0" rpy="0 0 0"/>
      <mass value="1.46E-04"/>
      <inertia ixx="5.47E-09" ixy="1.20E-08" ixz="-7.54E-09" iyy="4.51E-08" iyz="2.35E-09" izz="4.75E-08"/>
    </inertial>
    <visual>
      <origin xyz="0 0 0" rpy="0 0 0"/>
      <geometry>
        <mesh filename="handle~handle2_convex_piece_40.obj" scale="1.0000E+00 1.0000E+00 1.0000E+00"/>
      </geometry>
      <material name=""/>
    </visual>
    <collision>
      <origin xyz="0 0 0" rpy="0 0 0"/>
      <geometry>
        <mesh filename="handle~handle2_convex_piece_40.obj" scale="1.0000E+00 1.0000E+00 1.0000E+00"/>
      </geometry>
    </collision>
  </link>
  <joint name="link_handle~handle2_convex_piece_40_joint" type="fixed">
    <origin xyz="0 0 0" rpy="0 0 0"/>
    <parent link="link_handle~handle2_convex_piece_39"/>
    <child link="link_handle~handle2_convex_piece_40"/>
  </joint>
  <link name="link_handle~handle2_convex_piece_41">
    <inertial>
      <origin xyz="0 0 0" rpy="0 0 0"/>
      <mass value="6.87E-04"/>
      <inertia ixx="1.81E-08" ixy="1.18E-07" ixz="-1.31E-07" iyy="2.73E-06" iyz="7.13E-09" izz="2.73E-06"/>
    </inertial>
    <visual>
      <origin xyz="0 0 0" rpy="0 0 0"/>
      <geometry>
        <mesh filename="handle~handle2_convex_piece_41.obj" scale="1.0000E+00 1.0000E+00 1.0000E+00"/>
      </geometry>
      <material name=""/>
    </visual>
    <collision>
      <origin xyz="0 0 0" rpy="0 0 0"/>
      <geometry>
        <mesh filename="handle~handle2_convex_piece_41.obj" scale="1.0000E+00 1.0000E+00 1.0000E+00"/>
      </geometry>
    </collision>
  </link>
  <joint name="link_handle~handle2_convex_piece_41_joint" type="fixed">
    <origin xyz="0 0 0" rpy="0 0 0"/>
    <parent link="link_handle~handle2_convex_piece_40"/>
    <child link="link_handle~handle2_convex_piece_41"/>
  </joint>
  <link name="link_handle~handle2_convex_piece_42">
    <inertial>
      <origin xyz="0 0 0" rpy="0 0 0"/>
      <mass value="3.02E-04"/>
      <inertia ixx="7.59E-08" ixy="1.98E-08" ixz="-1.23E-07" iyy="2.85E-07" iyz="1.18E-08" izz="2.14E-07"/>
    </inertial>
    <visual>
      <origin xyz="0 0 0" rpy="0 0 0"/>
      <geometry>
        <mesh filename="handle~handle2_convex_piece_42.obj" scale="1.0000E+00 1.0000E+00 1.0000E+00"/>
      </geometry>
      <material name=""/>
    </visual>
    <collision>
      <origin xyz="0 0 0" rpy="0 0 0"/>
      <geometry>
        <mesh filename="handle~handle2_convex_piece_42.obj" scale="1.0000E+00 1.0000E+00 1.0000E+00"/>
      </geometry>
    </collision>
  </link>
  <joint name="link_handle~handle2_convex_piece_42_joint" type="fixed">
    <origin xyz="0 0 0" rpy="0 0 0"/>
    <parent link="link_handle~handle2_convex_piece_41"/>
    <child link="link_handle~handle2_convex_piece_42"/>
  </joint>
  <link name="link_handle~handle2_convex_piece_43">
    <inertial>
      <origin xyz="0 0 0" rpy="0 0 0"/>
      <mass value="4.19E-05"/>
      <inertia ixx="3.05E-08" ixy="9.54E-09" ixz="-3.51E-08" iyy="7.27E-08" iyz="7.64E-09" izz="4.65E-08"/>
    </inertial>
    <visual>
      <origin xyz="0 0 0" rpy="0 0 0"/>
      <geometry>
        <mesh filename="handle~handle2_convex_piece_43.obj" scale="1.0000E+00 1.0000E+00 1.0000E+00"/>
      </geometry>
      <material name=""/>
    </visual>
    <collision>
      <origin xyz="0 0 0" rpy="0 0 0"/>
      <geometry>
        <mesh filename="handle~handle2_convex_piece_43.obj" scale="1.0000E+00 1.0000E+00 1.0000E+00"/>
      </geometry>
    </collision>
  </link>
  <joint name="link_handle~handle2_convex_piece_43_joint" type="fixed">
    <origin xyz="0 0 0" rpy="0 0 0"/>
    <parent link="link_handle~handle2_convex_piece_42"/>
    <child link="link_handle~handle2_convex_piece_43"/>
  </joint>
  <link name="link_handle~handle2_convex_piece_44">
    <inertial>
      <origin xyz="0 0 0" rpy="0 0 0"/>
      <mass value="1.75E-03"/>
      <inertia ixx="2.36E-07" ixy="1.32E-07" ixz="2.51E-07" iyy="5.95E-07" iyz="-8.61E-08" izz="4.83E-07"/>
    </inertial>
    <visual>
      <origin xyz="0 0 0" rpy="0 0 0"/>
      <geometry>
        <mesh filename="handle~handle2_convex_piece_44.obj" scale="1.0000E+00 1.0000E+00 1.0000E+00"/>
      </geometry>
      <material name=""/>
    </visual>
    <collision>
      <origin xyz="0 0 0" rpy="0 0 0"/>
      <geometry>
        <mesh filename="handle~handle2_convex_piece_44.obj" scale="1.0000E+00 1.0000E+00 1.0000E+00"/>
      </geometry>
    </collision>
  </link>
  <joint name="link_handle~handle2_convex_piece_44_joint" type="fixed">
    <origin xyz="0 0 0" rpy="0 0 0"/>
    <parent link="link_handle~handle2_convex_piece_43"/>
    <child link="link_handle~handle2_convex_piece_44"/>
  </joint>
  <link name="link_handle~handle2_convex_piece_45">
    <inertial>
      <origin xyz="0 0 0" rpy="0 0 0"/>
      <mass value="1.14E-03"/>
      <inertia ixx="5.04E-07" ixy="-3.11E-07" ixz="-7.15E-07" iyy="1.72E-06" iyz="-1.77E-07" izz="1.37E-06"/>
    </inertial>
    <visual>
      <origin xyz="0 0 0" rpy="0 0 0"/>
      <geometry>
        <mesh filename="handle~handle2_convex_piece_45.obj" scale="1.0000E+00 1.0000E+00 1.0000E+00"/>
      </geometry>
      <material name=""/>
    </visual>
    <collision>
      <origin xyz="0 0 0" rpy="0 0 0"/>
      <geometry>
        <mesh filename="handle~handle2_convex_piece_45.obj" scale="1.0000E+00 1.0000E+00 1.0000E+00"/>
      </geometry>
    </collision>
  </link>
  <joint name="link_handle~handle2_convex_piece_45_joint" type="fixed">
    <origin xyz="0 0 0" rpy="0 0 0"/>
    <parent link="link_handle~handle2_convex_piece_44"/>
    <child link="link_handle~handle2_convex_piece_45"/>
  </joint>
  <link name="link_handle~handle2_convex_piece_46">
    <inertial>
      <origin xyz="0 0 0" rpy="0 0 0"/>
      <mass value="1.04E-03"/>
      <inertia ixx="3.66E-08" ixy="4.78E-08" ixz="3.91E-08" iyy="2.03E-07" iyz="-1.46E-08" izz="2.14E-07"/>
    </inertial>
    <visual>
      <origin xyz="0 0 0" rpy="0 0 0"/>
      <geometry>
        <mesh filename="handle~handle2_convex_piece_46.obj" scale="1.0000E+00 1.0000E+00 1.0000E+00"/>
      </geometry>
      <material name=""/>
    </visual>
    <collision>
      <origin xyz="0 0 0" rpy="0 0 0"/>
      <geometry>
        <mesh filename="handle~handle2_convex_piece_46.obj" scale="1.0000E+00 1.0000E+00 1.0000E+00"/>
      </geometry>
    </collision>
  </link>
  <joint name="link_handle~handle2_convex_piece_46_joint" type="fixed">
    <origin xyz="0 0 0" rpy="0 0 0"/>
    <parent link="link_handle~handle2_convex_piece_45"/>
    <child link="link_handle~handle2_convex_piece_46"/>
  </joint>
  <link name="link_handle~handle2_convex_piece_47">
    <inertial>
      <origin xyz="0 0 0" rpy="0 0 0"/>
      <mass value="1.02E-03"/>
      <inertia ixx="2.81E-08" ixy="-9.17E-08" ixz="-1.05E-07" iyy="1.31E-06" iyz="-1.03E-08" izz="1.31E-06"/>
    </inertial>
    <visual>
      <origin xyz="0 0 0" rpy="0 0 0"/>
      <geometry>
        <mesh filename="handle~handle2_convex_piece_47.obj" scale="1.0000E+00 1.0000E+00 1.0000E+00"/>
      </geometry>
      <material name=""/>
    </visual>
    <collision>
      <origin xyz="0 0 0" rpy="0 0 0"/>
      <geometry>
        <mesh filename="handle~handle2_convex_piece_47.obj" scale="1.0000E+00 1.0000E+00 1.0000E+00"/>
      </geometry>
    </collision>
  </link>
  <joint name="link_handle~handle2_convex_piece_47_joint" type="fixed">
    <origin xyz="0 0 0" rpy="0 0 0"/>
    <parent link="link_handle~handle2_convex_piece_46"/>
    <child link="link_handle~handle2_convex_piece_47"/>
  </joint>
  <link name="link_handle~handle2_convex_piece_48">
    <inertial>
      <origin xyz="0 0 0" rpy="0 0 0"/>
      <mass value="2.59E-04"/>
      <inertia ixx="1.71E-08" ixy="-1.02E-07" ixz="-5.98E-08" iyy="8.84E-07" iyz="-7.39E-09" izz="8.92E-07"/>
    </inertial>
    <visual>
      <origin xyz="0 0 0" rpy="0 0 0"/>
      <geometry>
        <mesh filename="handle~handle2_convex_piece_48.obj" scale="1.0000E+00 1.0000E+00 1.0000E+00"/>
      </geometry>
      <material name=""/>
    </visual>
    <collision>
      <origin xyz="0 0 0" rpy="0 0 0"/>
      <geometry>
        <mesh filename="handle~handle2_convex_piece_48.obj" scale="1.0000E+00 1.0000E+00 1.0000E+00"/>
      </geometry>
    </collision>
  </link>
  <joint name="link_handle~handle2_convex_piece_48_joint" type="fixed">
    <origin xyz="0 0 0" rpy="0 0 0"/>
    <parent link="link_handle~handle2_convex_piece_47"/>
    <child link="link_handle~handle2_convex_piece_48"/>
  </joint>
  <link name="link_handle~handle2_convex_piece_49">
    <inertial>
      <origin xyz="0 0 0" rpy="0 0 0"/>
      <mass value="1.62E-03"/>
      <inertia ixx="8.37E-08" ixy="2.57E-09" ixz="-1.36E-07" iyy="1.11E-06" iyz="2.87E-10" izz="1.14E-06"/>
    </inertial>
    <visual>
      <origin xyz="0 0 0" rpy="0 0 0"/>
      <geometry>
        <mesh filename="handle~handle2_convex_piece_49.obj" scale="1.0000E+00 1.0000E+00 1.0000E+00"/>
      </geometry>
      <material name=""/>
    </visual>
    <collision>
      <origin xyz="0 0 0" rpy="0 0 0"/>
      <geometry>
        <mesh filename="handle~handle2_convex_piece_49.obj" scale="1.0000E+00 1.0000E+00 1.0000E+00"/>
      </geometry>
    </collision>
  </link>
  <joint name="link_handle~handle2_convex_piece_49_joint" type="fixed">
    <origin xyz="0 0 0" rpy="0 0 0"/>
    <parent link="link_handle~handle2_convex_piece_48"/>
    <child link="link_handle~handle2_convex_piece_49"/>
  </joint>
  <link name="link_handle~handle2_convex_piece_50">
    <inertial>
      <origin xyz="0 0 0" rpy="0 0 0"/>
      <mass value="2.92E-04"/>
      <inertia ixx="7.21E-08" ixy="-2.46E-08" ixz="-1.17E-07" iyy="2.72E-07" iyz="-1.44E-08" izz="2.07E-07"/>
    </inertial>
    <visual>
      <origin xyz="0 0 0" rpy="0 0 0"/>
      <geometry>
        <mesh filename="handle~handle2_convex_piece_50.obj" scale="1.0000E+00 1.0000E+00 1.0000E+00"/>
      </geometry>
      <material name=""/>
    </visual>
    <collision>
      <origin xyz="0 0 0" rpy="0 0 0"/>
      <geometry>
        <mesh filename="handle~handle2_convex_piece_50.obj" scale="1.0000E+00 1.0000E+00 1.0000E+00"/>
      </geometry>
    </collision>
  </link>
  <joint name="link_handle~handle2_convex_piece_50_joint" type="fixed">
    <origin xyz="0 0 0" rpy="0 0 0"/>
    <parent link="link_handle~handle2_convex_piece_49"/>
    <child link="link_handle~handle2_convex_piece_50"/>
  </joint>
  <link name="link_handle~handle2_convex_piece_51">
    <inertial>
      <origin xyz="0 0 0" rpy="0 0 0"/>
      <mass value="4.64E-04"/>
      <inertia ixx="1.52E-08" ixy="-1.64E-08" ixz="-1.52E-07" iyy="2.82E-06" iyz="-1.07E-09" izz="2.82E-06"/>
    </inertial>
    <visual>
      <origin xyz="0 0 0" rpy="0 0 0"/>
      <geometry>
        <mesh filename="handle~handle2_convex_piece_51.obj" scale="1.0000E+00 1.0000E+00 1.0000E+00"/>
      </geometry>
      <material name=""/>
    </visual>
    <collision>
      <origin xyz="0 0 0" rpy="0 0 0"/>
      <geometry>
        <mesh filename="handle~handle2_convex_piece_51.obj" scale="1.0000E+00 1.0000E+00 1.0000E+00"/>
      </geometry>
    </collision>
  </link>
  <joint name="link_handle~handle2_convex_piece_51_joint" type="fixed">
    <origin xyz="0 0 0" rpy="0 0 0"/>
    <parent link="link_handle~handle2_convex_piece_50"/>
    <child link="link_handle~handle2_convex_piece_51"/>
  </joint>
  <link name="link_handle~handle2_convex_piece_52">
    <inertial>
      <origin xyz="0 0 0" rpy="0 0 0"/>
      <mass value="1.82E-04"/>
      <inertia ixx="7.00E-08" ixy="2.41E-08" ixz="-9.36E-08" iyy="2.65E-07" iyz="1.15E-08" izz="2.00E-07"/>
    </inertial>
    <visual>
      <origin xyz="0 0 0" rpy="0 0 0"/>
      <geometry>
        <mesh filename="handle~handle2_convex_piece_52.obj" scale="1.0000E+00 1.0000E+00 1.0000E+00"/>
      </geometry>
      <material name=""/>
    </visual>
    <collision>
      <origin xyz="0 0 0" rpy="0 0 0"/>
      <geometry>
        <mesh filename="handle~handle2_convex_piece_52.obj" scale="1.0000E+00 1.0000E+00 1.0000E+00"/>
      </geometry>
    </collision>
  </link>
  <joint name="link_handle~handle2_convex_piece_52_joint" type="fixed">
    <origin xyz="0 0 0" rpy="0 0 0"/>
    <parent link="link_handle~handle2_convex_piece_51"/>
    <child link="link_handle~handle2_convex_piece_52"/>
  </joint>
  <link name="link_handle~handle2_convex_piece_53">
    <inertial>
      <origin xyz="0 0 0" rpy="0 0 0"/>
      <mass value="2.14E-04"/>
      <inertia ixx="2.05E-07" ixy="2.10E-08" ixz="-2.44E-07" iyy="5.00E-07" iyz="1.76E-08" izz="2.98E-07"/>
    </inertial>
    <visual>
      <origin xyz="0 0 0" rpy="0 0 0"/>
      <geometry>
        <mesh filename="handle~handle2_convex_piece_53.obj" scale="1.0000E+00 1.0000E+00 1.0000E+00"/>
      </geometry>
      <material name=""/>
    </visual>
    <collision>
      <origin xyz="0 0 0" rpy="0 0 0"/>
      <geometry>
        <mesh filename="handle~handle2_convex_piece_53.obj" scale="1.0000E+00 1.0000E+00 1.0000E+00"/>
      </geometry>
    </collision>
  </link>
  <joint name="link_handle~handle2_convex_piece_53_joint" type="fixed">
    <origin xyz="0 0 0" rpy="0 0 0"/>
    <parent link="link_handle~handle2_convex_piece_52"/>
    <child link="link_handle~handle2_convex_piece_53"/>
  </joint>
  <link name="link_handle~handle2_convex_piece_54">
    <inertial>
      <origin xyz="0 0 0" rpy="0 0 0"/>
      <mass value="3.63E-04"/>
      <inertia ixx="2.85E-07" ixy="2.64E-08" ixz="-2.86E-07" iyy="5.80E-07" iyz="2.56E-08" izz="3.00E-07"/>
    </inertial>
    <visual>
      <origin xyz="0 0 0" rpy="0 0 0"/>
      <geometry>
        <mesh filename="handle~handle2_convex_piece_54.obj" scale="1.0000E+00 1.0000E+00 1.0000E+00"/>
      </geometry>
      <material name=""/>
    </visual>
    <collision>
      <origin xyz="0 0 0" rpy="0 0 0"/>
      <geometry>
        <mesh filename="handle~handle2_convex_piece_54.obj" scale="1.0000E+00 1.0000E+00 1.0000E+00"/>
      </geometry>
    </collision>
  </link>
  <joint name="link_handle~handle2_convex_piece_54_joint" type="fixed">
    <origin xyz="0 0 0" rpy="0 0 0"/>
    <parent link="link_handle~handle2_convex_piece_53"/>
    <child link="link_handle~handle2_convex_piece_54"/>
  </joint>
  <link name="link_handle~handle2_convex_piece_55">
    <inertial>
      <origin xyz="0 0 0" rpy="0 0 0"/>
      <mass value="2.66E-04"/>
      <inertia ixx="2.58E-07" ixy="4.80E-08" ixz="-2.73E-07" iyy="5.54E-07" iyz="4.33E-08" izz="3.12E-07"/>
    </inertial>
    <visual>
      <origin xyz="0 0 0" rpy="0 0 0"/>
      <geometry>
        <mesh filename="handle~handle2_convex_piece_55.obj" scale="1.0000E+00 1.0000E+00 1.0000E+00"/>
      </geometry>
      <material name=""/>
    </visual>
    <collision>
      <origin xyz="0 0 0" rpy="0 0 0"/>
      <geometry>
        <mesh filename="handle~handle2_convex_piece_55.obj" scale="1.0000E+00 1.0000E+00 1.0000E+00"/>
      </geometry>
    </collision>
  </link>
  <joint name="link_handle~handle2_convex_piece_55_joint" type="fixed">
    <origin xyz="0 0 0" rpy="0 0 0"/>
    <parent link="link_handle~handle2_convex_piece_54"/>
    <child link="link_handle~handle2_convex_piece_55"/>
  </joint>
  <link name="link_handle~handle2_convex_piece_56">
    <inertial>
      <origin xyz="0 0 0" rpy="0 0 0"/>
      <mass value="4.65E-03"/>
      <inertia ixx="5.23E-07" ixy="-3.92E-07" ixz="5.21E-07" iyy="1.78E-06" iyz="1.96E-07" izz="1.62E-06"/>
    </inertial>
    <visual>
      <origin xyz="0 0 0" rpy="0 0 0"/>
      <geometry>
        <mesh filename="handle~handle2_convex_piece_56.obj" scale="1.0000E+00 1.0000E+00 1.0000E+00"/>
      </geometry>
      <material name=""/>
    </visual>
    <collision>
      <origin xyz="0 0 0" rpy="0 0 0"/>
      <geometry>
        <mesh filename="handle~handle2_convex_piece_56.obj" scale="1.0000E+00 1.0000E+00 1.0000E+00"/>
      </geometry>
    </collision>
  </link>
  <joint name="link_handle~handle2_convex_piece_56_joint" type="fixed">
    <origin xyz="0 0 0" rpy="0 0 0"/>
    <parent link="link_handle~handle2_convex_piece_55"/>
    <child link="link_handle~handle2_convex_piece_56"/>
  </joint>
  <link name="link_handle~handle2_convex_piece_57">
    <inertial>
      <origin xyz="0 0 0" rpy="0 0 0"/>
      <mass value="7.59E-04"/>
      <inertia ixx="8.75E-08" ixy="2.42E-07" ixz="-4.07E-07" iyy="3.03E-06" iyz="3.38E-08" izz="2.99E-06"/>
    </inertial>
    <visual>
      <origin xyz="0 0 0" rpy="0 0 0"/>
      <geometry>
        <mesh filename="handle~handle2_convex_piece_57.obj" scale="1.0000E+00 1.0000E+00 1.0000E+00"/>
      </geometry>
      <material name=""/>
    </visual>
    <collision>
      <origin xyz="0 0 0" rpy="0 0 0"/>
      <geometry>
        <mesh filename="handle~handle2_convex_piece_57.obj" scale="1.0000E+00 1.0000E+00 1.0000E+00"/>
      </geometry>
    </collision>
  </link>
  <joint name="link_handle~handle2_convex_piece_57_joint" type="fixed">
    <origin xyz="0 0 0" rpy="0 0 0"/>
    <parent link="link_handle~handle2_convex_piece_56"/>
    <child link="link_handle~handle2_convex_piece_57"/>
  </joint>
  <link name="link_handle~handle2_convex_piece_58">
    <inertial>
      <origin xyz="0 0 0" rpy="0 0 0"/>
      <mass value="3.18E-03"/>
      <inertia ixx="3.87E-07" ixy="-7.10E-08" ixz="-1.73E-07" iyy="5.83E-07" iyz="-1.25E-07" izz="3.73E-07"/>
    </inertial>
    <visual>
      <origin xyz="0 0 0" rpy="0 0 0"/>
      <geometry>
        <mesh filename="handle~handle2_convex_piece_58.obj" scale="1.0000E+00 1.0000E+00 1.0000E+00"/>
      </geometry>
      <material name=""/>
    </visual>
    <collision>
      <origin xyz="0 0 0" rpy="0 0 0"/>
      <geometry>
        <mesh filename="handle~handle2_convex_piece_58.obj" scale="1.0000E+00 1.0000E+00 1.0000E+00"/>
      </geometry>
    </collision>
  </link>
  <joint name="link_handle~handle2_convex_piece_58_joint" type="fixed">
    <origin xyz="0 0 0" rpy="0 0 0"/>
    <parent link="link_handle~handle2_convex_piece_57"/>
    <child link="link_handle~handle2_convex_piece_58"/>
  </joint>
  <link name="link_handle~handle2_convex_piece_59">
    <inertial>
      <origin xyz="0 0 0" rpy="0 0 0"/>
      <mass value="1.89E-04"/>
      <inertia ixx="3.51E-09" ixy="-3.06E-09" ixz="1.99E-08" iyy="2.07E-07" iyz="1.17E-10" izz="2.06E-07"/>
    </inertial>
    <visual>
      <origin xyz="0 0 0" rpy="0 0 0"/>
      <geometry>
        <mesh filename="handle~handle2_convex_piece_59.obj" scale="1.0000E+00 1.0000E+00 1.0000E+00"/>
      </geometry>
      <material name=""/>
    </visual>
    <collision>
      <origin xyz="0 0 0" rpy="0 0 0"/>
      <geometry>
        <mesh filename="handle~handle2_convex_piece_59.obj" scale="1.0000E+00 1.0000E+00 1.0000E+00"/>
      </geometry>
    </collision>
  </link>
  <joint name="link_handle~handle2_convex_piece_59_joint" type="fixed">
    <origin xyz="0 0 0" rpy="0 0 0"/>
    <parent link="link_handle~handle2_convex_piece_58"/>
    <child link="link_handle~handle2_convex_piece_59"/>
  </joint>
  <link name="link_handle~handle2_convex_piece_60">
    <inertial>
      <origin xyz="0 0 0" rpy="0 0 0"/>
      <mass value="4.02E-04"/>
      <inertia ixx="2.12E-07" ixy="-1.26E-08" ixz="-2.24E-07" iyy="4.51E-07" iyz="-1.13E-08" izz="2.48E-07"/>
    </inertial>
    <visual>
      <origin xyz="0 0 0" rpy="0 0 0"/>
      <geometry>
        <mesh filename="handle~handle2_convex_piece_60.obj" scale="1.0000E+00 1.0000E+00 1.0000E+00"/>
      </geometry>
      <material name=""/>
    </visual>
    <collision>
      <origin xyz="0 0 0" rpy="0 0 0"/>
      <geometry>
        <mesh filename="handle~handle2_convex_piece_60.obj" scale="1.0000E+00 1.0000E+00 1.0000E+00"/>
      </geometry>
    </collision>
  </link>
  <joint name="link_handle~handle2_convex_piece_60_joint" type="fixed">
    <origin xyz="0 0 0" rpy="0 0 0"/>
    <parent link="link_handle~handle2_convex_piece_59"/>
    <child link="link_handle~handle2_convex_piece_60"/>
  </joint>
  <link name="link_handle~handle2_convex_piece_61">
    <inertial>
      <origin xyz="0 0 0" rpy="0 0 0"/>
      <mass value="1.07E-04"/>
      <inertia ixx="5.35E-09" ixy="2.99E-08" ixz="-1.16E-08" iyy="2.36E-07" iyz="1.75E-09" izz="2.40E-07"/>
    </inertial>
    <visual>
      <origin xyz="0 0 0" rpy="0 0 0"/>
      <geometry>
        <mesh filename="handle~handle2_convex_piece_61.obj" scale="1.0000E+00 1.0000E+00 1.0000E+00"/>
      </geometry>
      <material name=""/>
    </visual>
    <collision>
      <origin xyz="0 0 0" rpy="0 0 0"/>
      <geometry>
        <mesh filename="handle~handle2_convex_piece_61.obj" scale="1.0000E+00 1.0000E+00 1.0000E+00"/>
      </geometry>
    </collision>
  </link>
  <joint name="link_handle~handle2_convex_piece_61_joint" type="fixed">
    <origin xyz="0 0 0" rpy="0 0 0"/>
    <parent link="link_handle~handle2_convex_piece_60"/>
    <child link="link_handle~handle2_convex_piece_61"/>
  </joint>
  <link name="link_handle~handle2_convex_piece_62">
    <inertial>
      <origin xyz="0 0 0" rpy="0 0 0"/>
      <mass value="2.34E-04"/>
      <inertia ixx="1.57E-07" ixy="-2.27E-08" ixz="-1.72E-07" iyy="3.49E-07" iyz="-2.00E-08" izz="1.99E-07"/>
    </inertial>
    <visual>
      <origin xyz="0 0 0" rpy="0 0 0"/>
      <geometry>
        <mesh filename="handle~handle2_convex_piece_62.obj" scale="1.0000E+00 1.0000E+00 1.0000E+00"/>
      </geometry>
      <material name=""/>
    </visual>
    <collision>
      <origin xyz="0 0 0" rpy="0 0 0"/>
      <geometry>
        <mesh filename="handle~handle2_convex_piece_62.obj" scale="1.0000E+00 1.0000E+00 1.0000E+00"/>
      </geometry>
    </collision>
  </link>
  <joint name="link_handle~handle2_convex_piece_62_joint" type="fixed">
    <origin xyz="0 0 0" rpy="0 0 0"/>
    <parent link="link_handle~handle2_convex_piece_61"/>
    <child link="link_handle~handle2_convex_piece_62"/>
  </joint>
  <link name="link_handle~handle2_convex_piece_63">
    <inertial>
      <origin xyz="0 0 0" rpy="0 0 0"/>
      <mass value="5.14E-03"/>
      <inertia ixx="7.34E-07" ixy="-1.34E-09" ixz="-1.84E-06" iyy="7.16E-06" iyz="-2.63E-10" izz="6.74E-06"/>
    </inertial>
    <visual>
      <origin xyz="0 0 0" rpy="0 0 0"/>
      <geometry>
        <mesh filename="handle~handle2_convex_piece_63.obj" scale="1.0000E+00 1.0000E+00 1.0000E+00"/>
      </geometry>
      <material name=""/>
    </visual>
    <collision>
      <origin xyz="0 0 0" rpy="0 0 0"/>
      <geometry>
        <mesh filename="handle~handle2_convex_piece_63.obj" scale="1.0000E+00 1.0000E+00 1.0000E+00"/>
      </geometry>
    </collision>
  </link>
  <joint name="link_handle~handle2_convex_piece_63_joint" type="fixed">
    <origin xyz="0 0 0" rpy="0 0 0"/>
    <parent link="link_handle~handle2_convex_piece_62"/>
    <child link="link_handle~handle2_convex_piece_63"/>
  </joint>
</robot>
